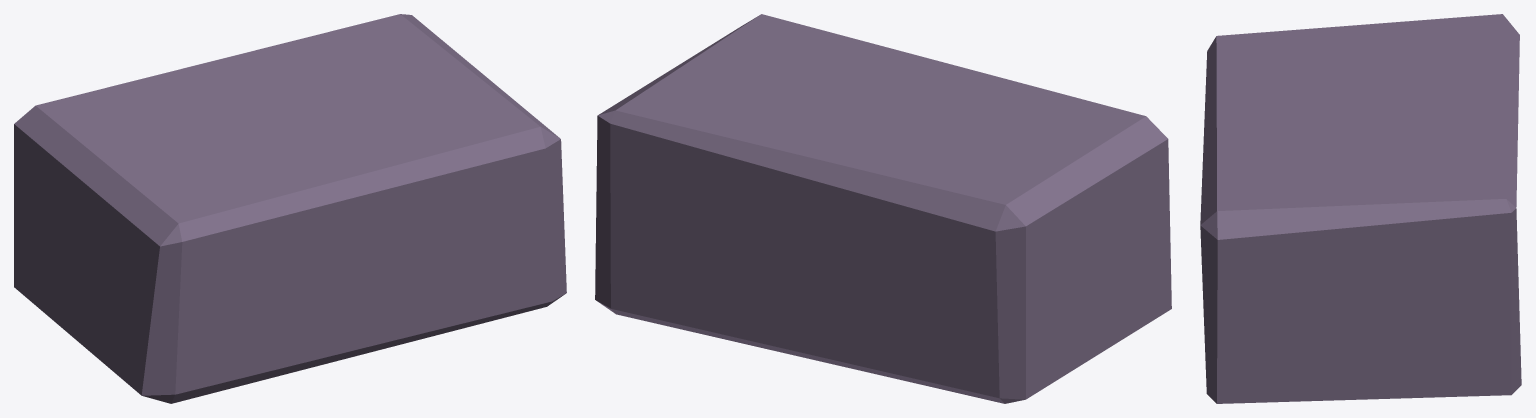
Rendered from StoneBlock02.fbx.
The picture shows the model from 3 angles, left to right: view 1: azimuth 30°, elevation 25°; view 2: azimuth 150°, elevation 25°; view 3: azimuth 270°, elevation 25°; orthographic projection. The views are drawn at different scales.
Visible parts, largest first — view 1: Cube; view 2: Cube; view 3: Cube.
Boxes of the visible parts, x1,y1,x2,y2 form: Cube: (14,14,566,403); Cube: (595,14,1171,403); Cube: (1200,14,1521,403).
Size of the model in its own units: 484 by 220 by 310.
